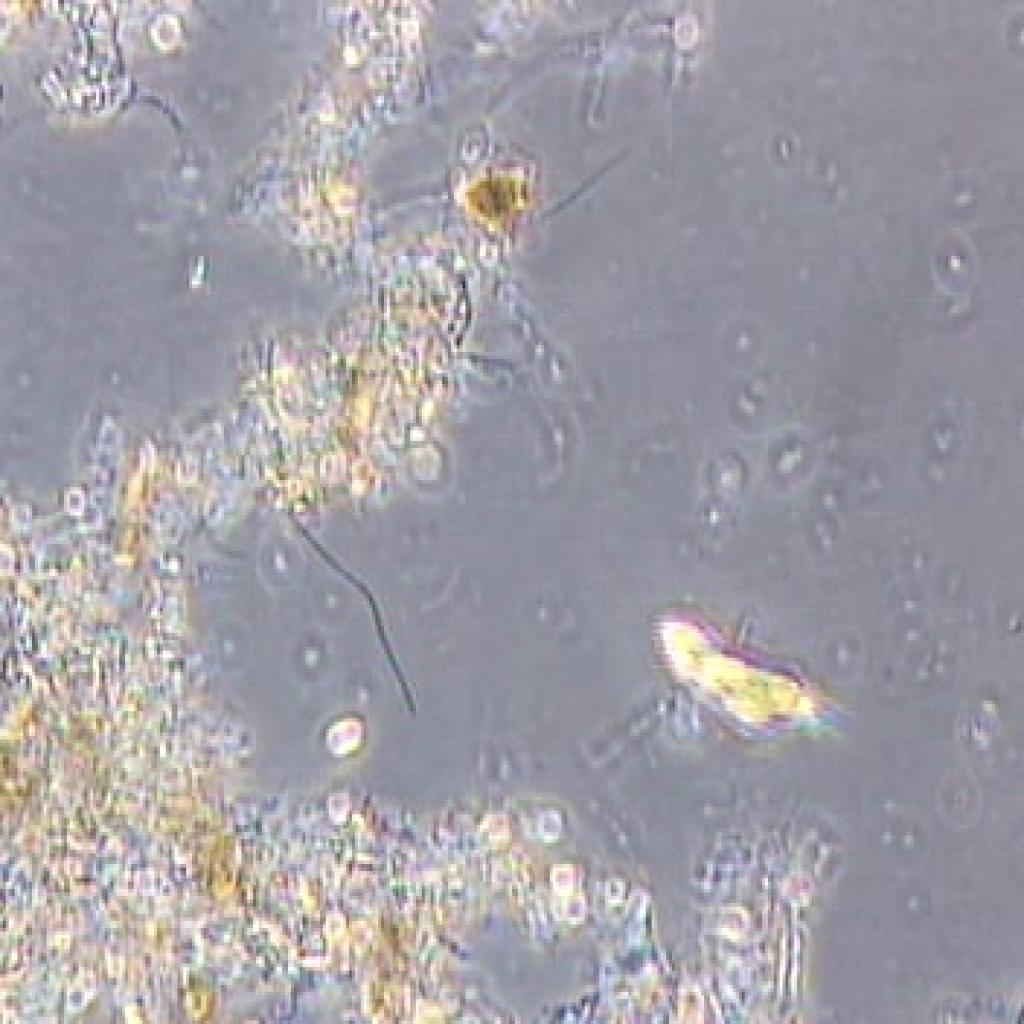Chaetonotus: (638, 587, 851, 757)
